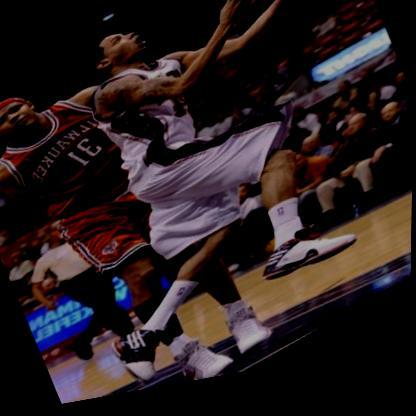basketball: (246, 0, 327, 10)
